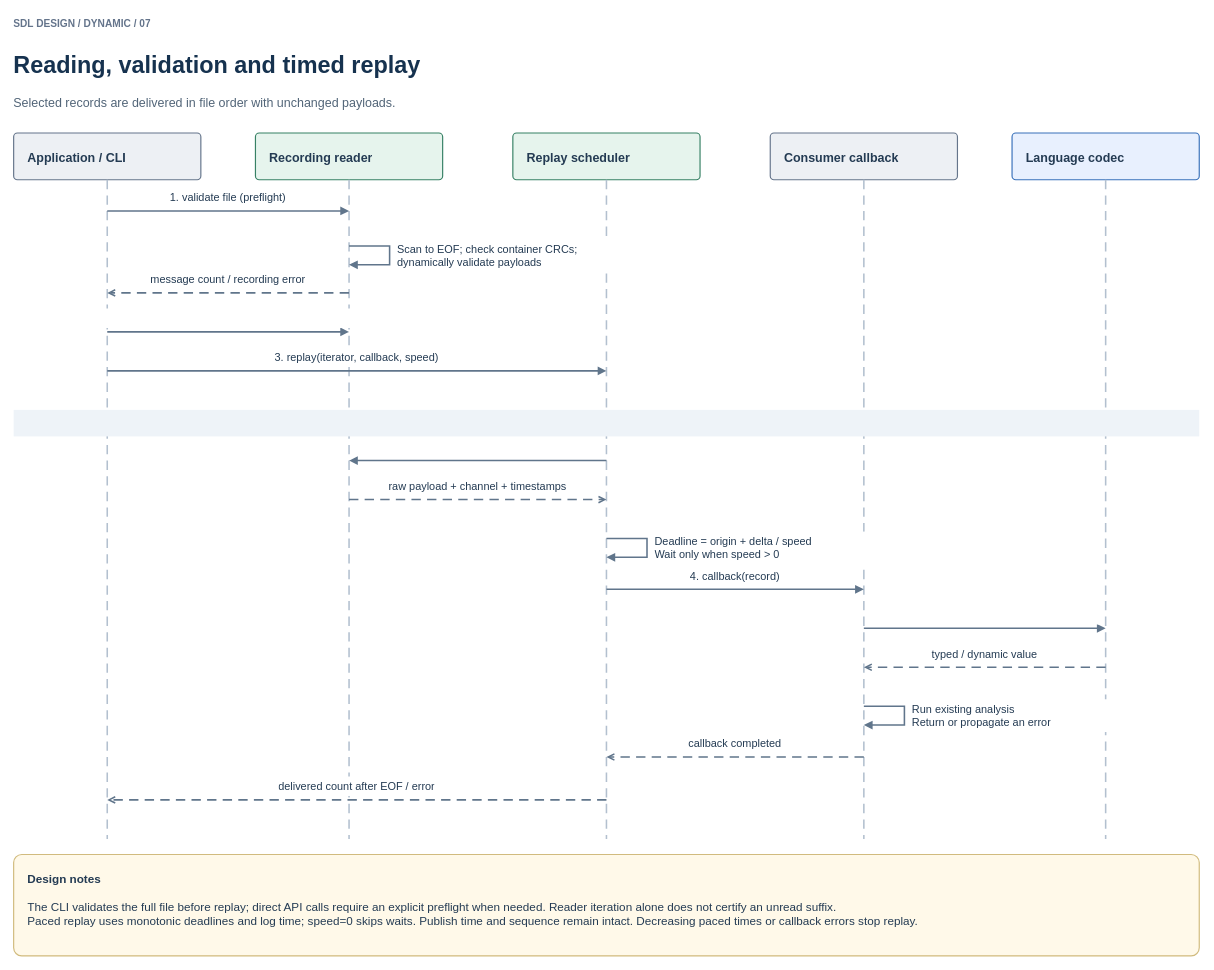
The diagram is 1214 pixels wide and 970 high, and some of its shapes have lost their labels. The shapes that lost their labels are listed below. From the top down, each one's centre as x and y in pixels, then its label:
At (227,318): "2. select topics and [start, end) log times".
At (606,423): "FOR EACH SELECTED RECORD".
At (477,446): "next record".
At (984,614): "5. decode if consumer needs values".
